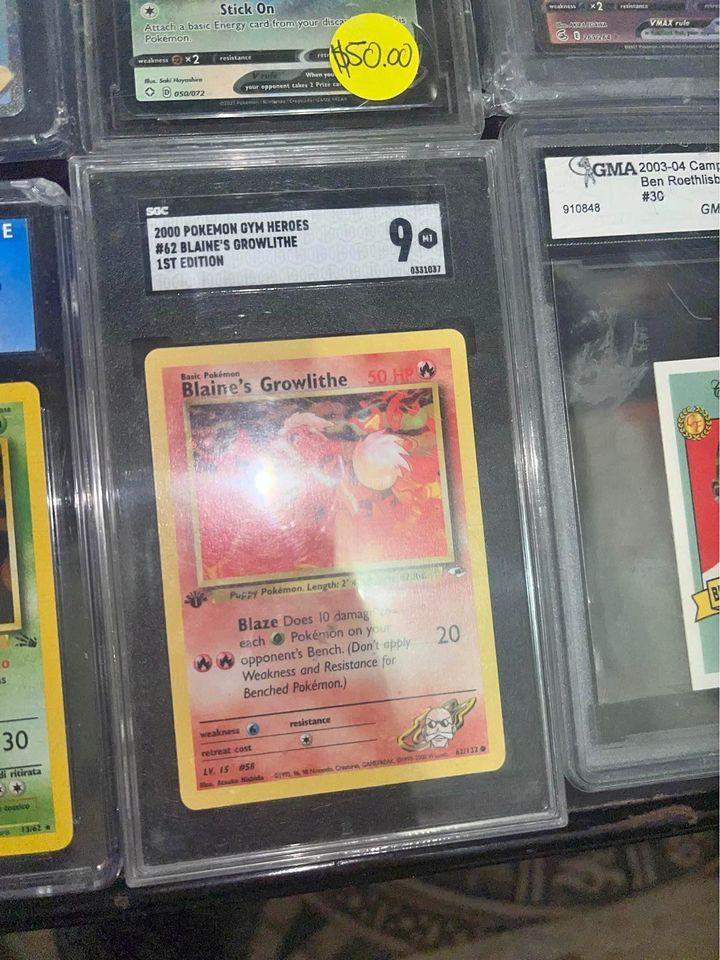card: (143, 328, 507, 811), (114, 0, 444, 116), (0, 380, 76, 860)
